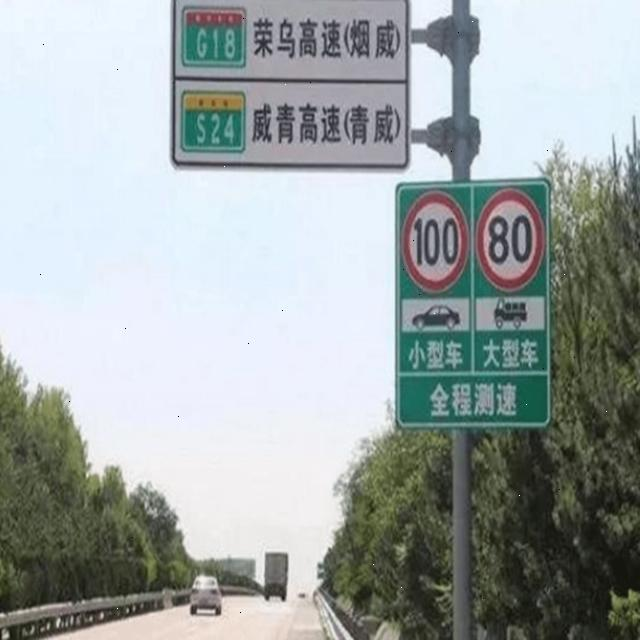speed limit 100: (401, 193, 472, 294)
speed limit 80: (477, 186, 546, 293)
